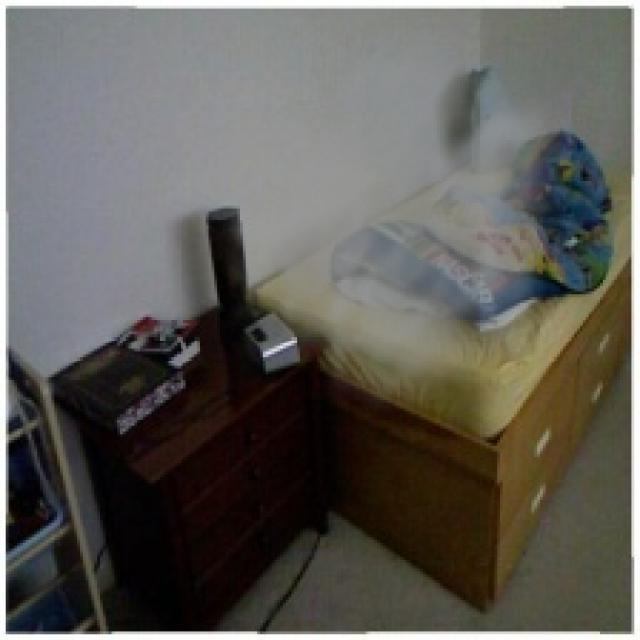Smoke: (186, 8, 572, 423)
